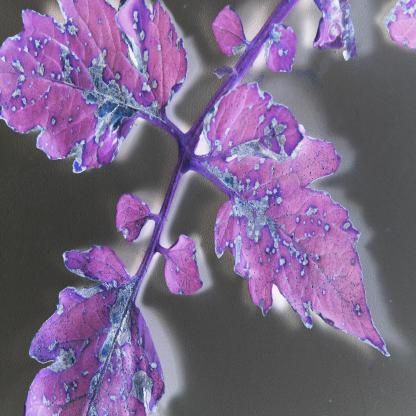tomato septoria leaf spot: (201, 130, 388, 365), (0, 1, 195, 183), (20, 204, 170, 416), (201, 81, 310, 175), (157, 235, 216, 307)
